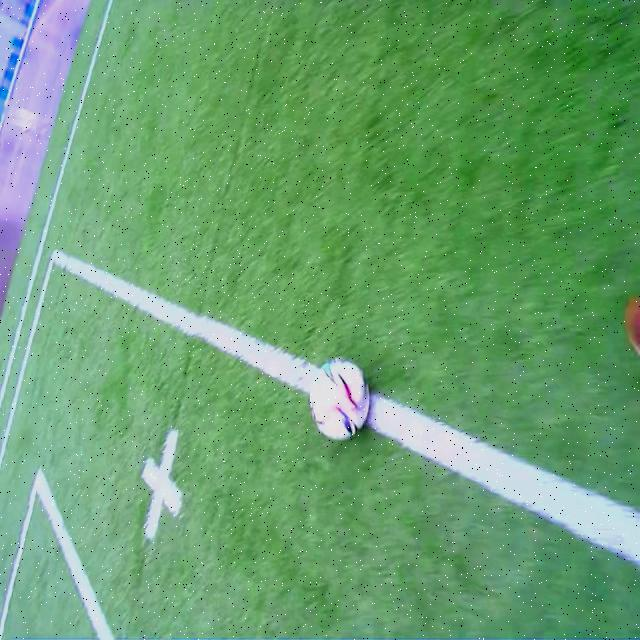ball: (310, 358, 370, 438)
